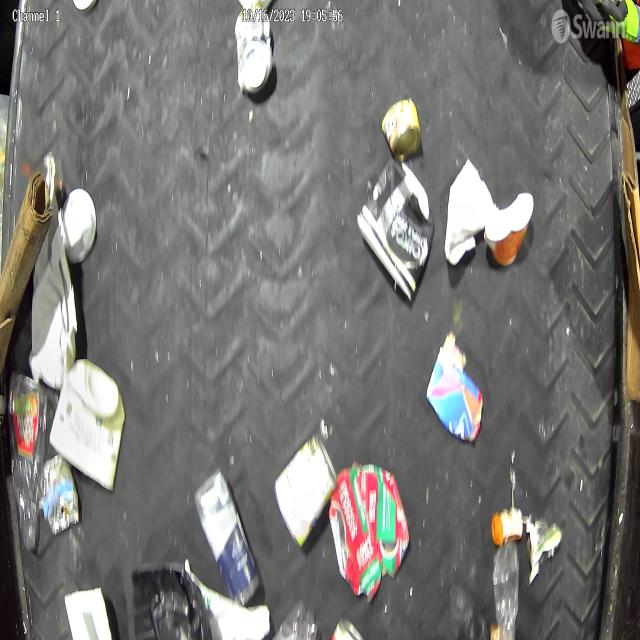can: (329, 463, 410, 598), (275, 432, 336, 546), (236, 8, 273, 92), (43, 455, 81, 533), (382, 98, 422, 159), (332, 616, 361, 640)
plastic_bottle: (8, 372, 48, 552), (491, 539, 521, 640)
